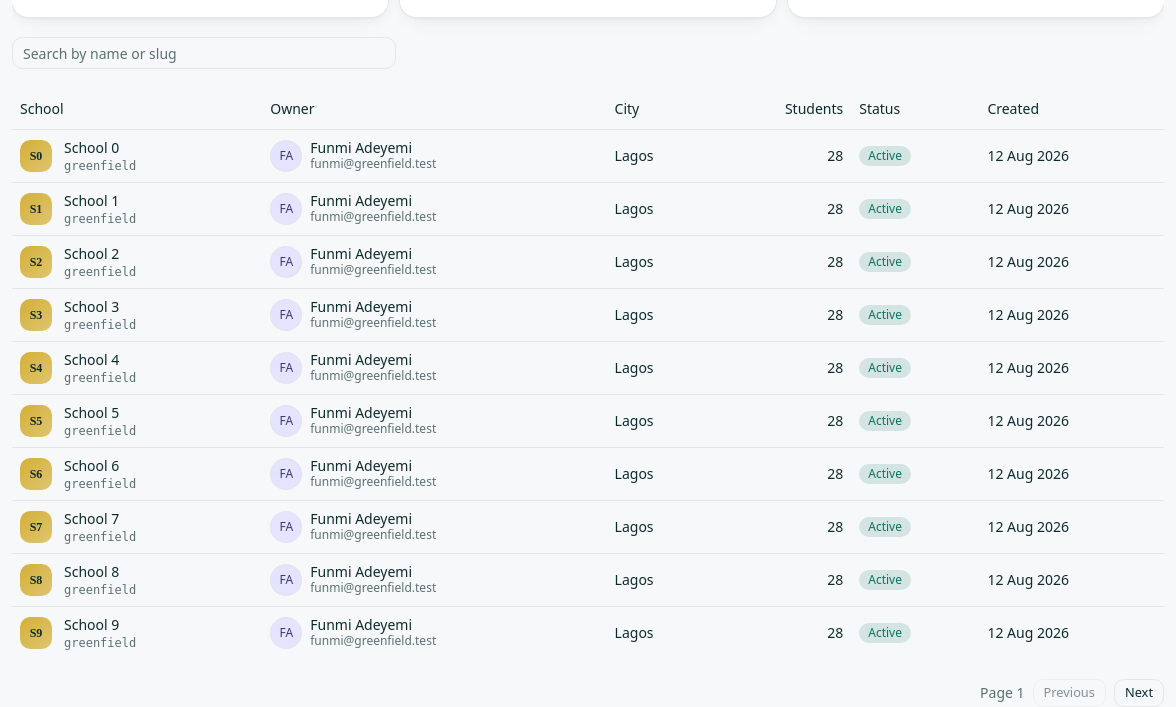
PlatformSchoolsPage › pages forward with the cursor and back again
(page scrolled)
Expected: the button "School 0" is shown, [64,138,119,158]
Expected: the button "Previous" is disabled, [1033,678,1106,706]
What coordinates should you click on to do the following:
click the button "Next"
I would click on:
 (1139, 692)
Its box is [1114,678,1164,706].
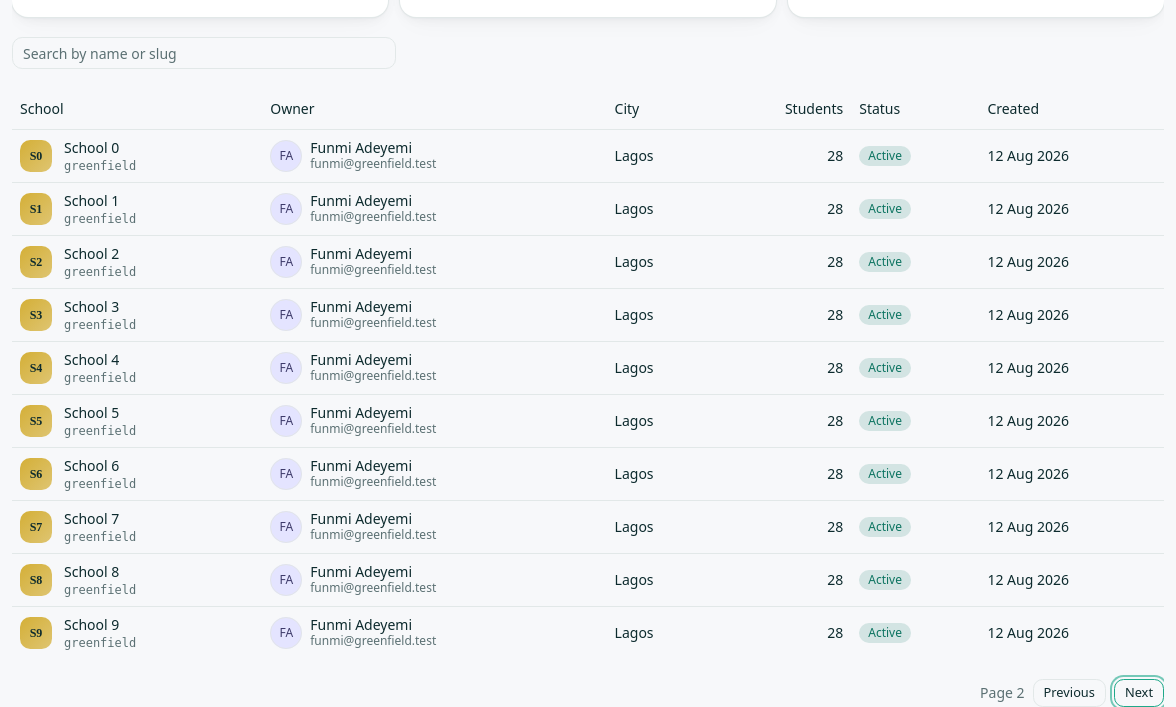
Now the text "Page 2" is shown, box [980,682,1025,702]
What coordinates should you click on to do the following:
click the button "Previous"
I would click on:
 (1069, 692)
Its box is [1033,678,1106,706].
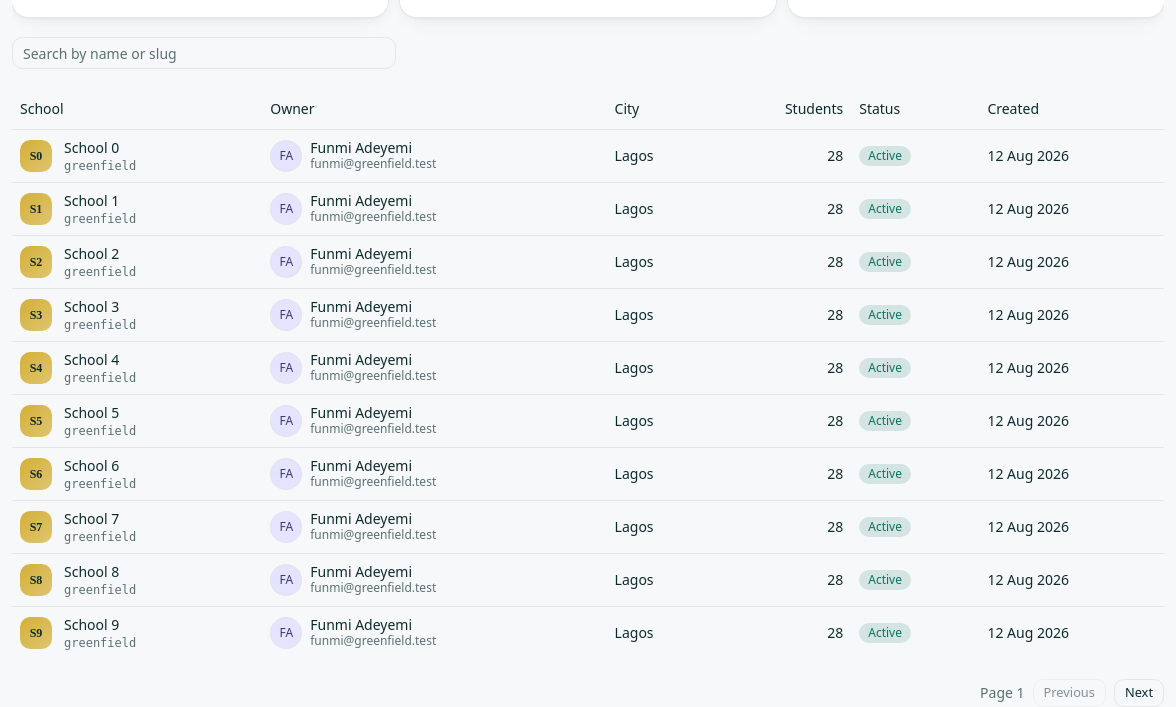
Now the text "Page 1" is shown, box [980,682,1025,702]
